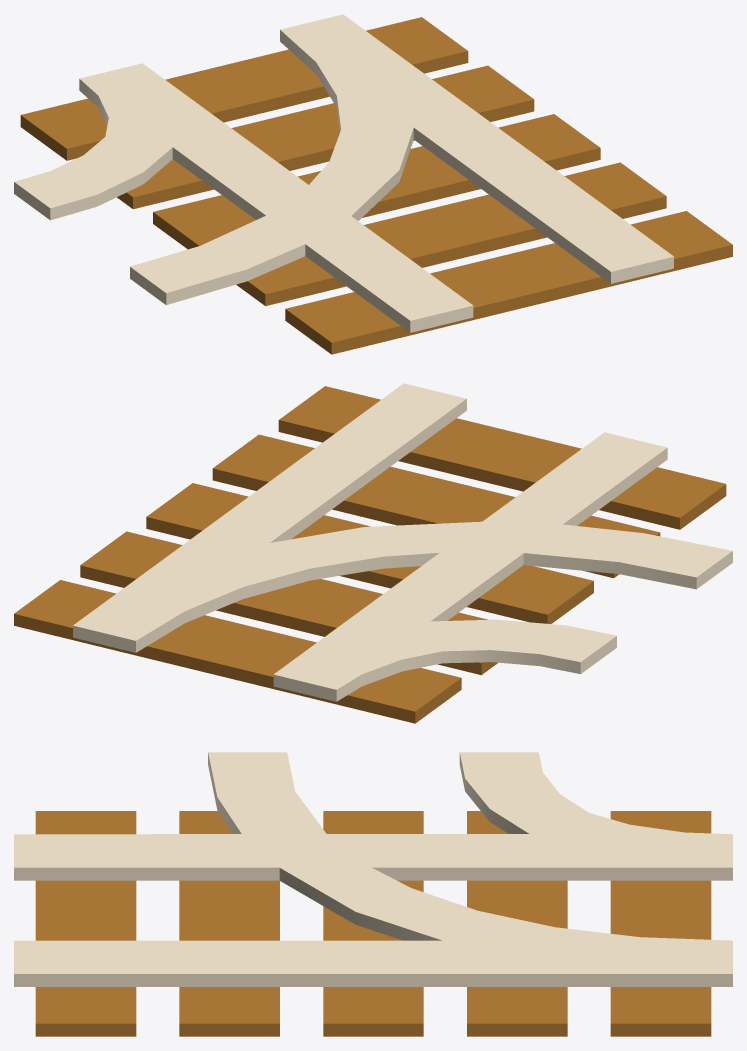
File: IndestructibleRailSwitchRight.fbx
3 renders of one model, top to bottom at view 1: azimuth 30°, elevation 25°; view 2: azimuth 150°, elevation 25°; view 3: azimuth 270°, elevation 25°, orthographic. The views are drawn at different scales.
Parts seen in each view (by area): view 1: Rail_Szyny_SwitchRight, Rail_Track_SwitchRight__2_, Rail_Track_SwitchRight__4_, Rail_Track_SwitchRight__1_, Rail_Track_SwitchRight, Rail_Track_SwitchRight__3_; view 2: Rail_Szyny_SwitchRight, Rail_Track_SwitchRight__2_, Rail_Track_SwitchRight__4_, Rail_Track_SwitchRight__1_, Rail_Track_SwitchRight, Rail_Track_SwitchRight__3_; view 3: Rail_Szyny_SwitchRight, Rail_Track_SwitchRight__2_, Rail_Track_SwitchRight__4_, Rail_Track_SwitchRight__1_, Rail_Track_SwitchRight__3_, Rail_Track_SwitchRight.
Part boxes in pixels (box(x1,y1,x2,y2)): Rail_Szyny_SwitchRight: box(14, 14, 673, 332); Rail_Track_SwitchRight__2_: box(285, 211, 732, 354); Rail_Track_SwitchRight__4_: box(20, 17, 468, 160); Rail_Track_SwitchRight__1_: box(236, 162, 666, 306); Rail_Track_SwitchRight: box(153, 114, 600, 249); Rail_Track_SwitchRight__3_: box(117, 65, 534, 209); Rail_Szyny_SwitchRight: box(73, 383, 732, 701); Rail_Track_SwitchRight__2_: box(278, 386, 726, 529); Rail_Track_SwitchRight__4_: box(14, 580, 461, 723); Rail_Track_SwitchRight__1_: box(212, 434, 660, 578); Rail_Track_SwitchRight: box(146, 483, 593, 623); Rail_Track_SwitchRight__3_: box(80, 531, 497, 675); Rail_Szyny_SwitchRight: box(14, 752, 732, 986); Rail_Track_SwitchRight__2_: box(35, 811, 136, 1036); Rail_Track_SwitchRight__4_: box(610, 811, 711, 1036); Rail_Track_SwitchRight__1_: box(179, 811, 279, 1036); Rail_Track_SwitchRight__3_: box(467, 811, 567, 1036); Rail_Track_SwitchRight: box(323, 811, 423, 1036).
Size of the model in its own units: 85 by 4.05 by 100.
